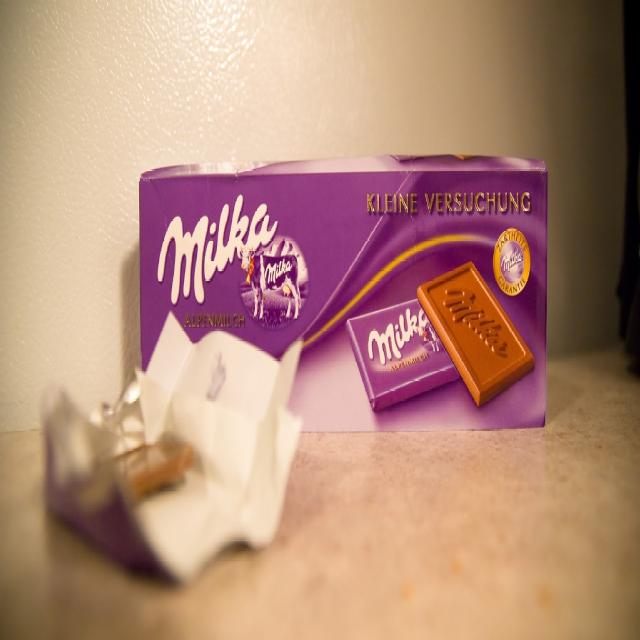milka: (155, 195, 310, 329)
